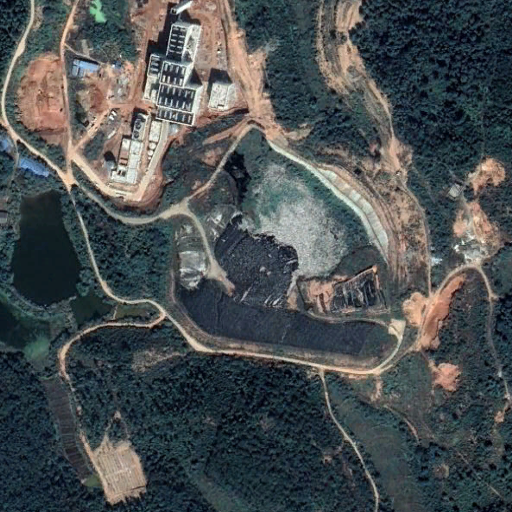lf: (165, 128, 406, 375)
